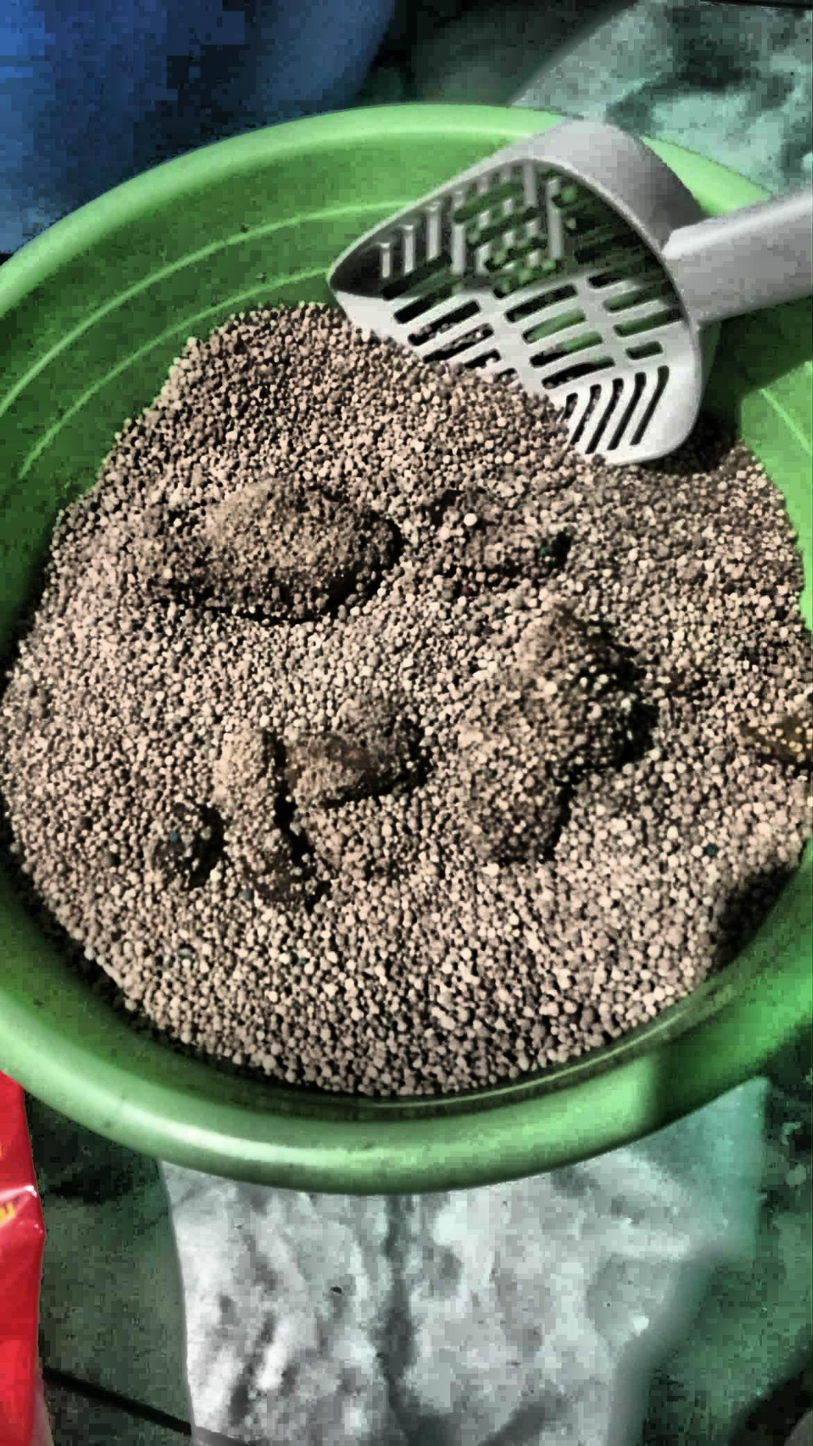litter_sand: (454, 604, 647, 871), (142, 468, 397, 623)
poop: (143, 723, 332, 932), (275, 692, 434, 808), (423, 488, 567, 596), (732, 700, 812, 777)
